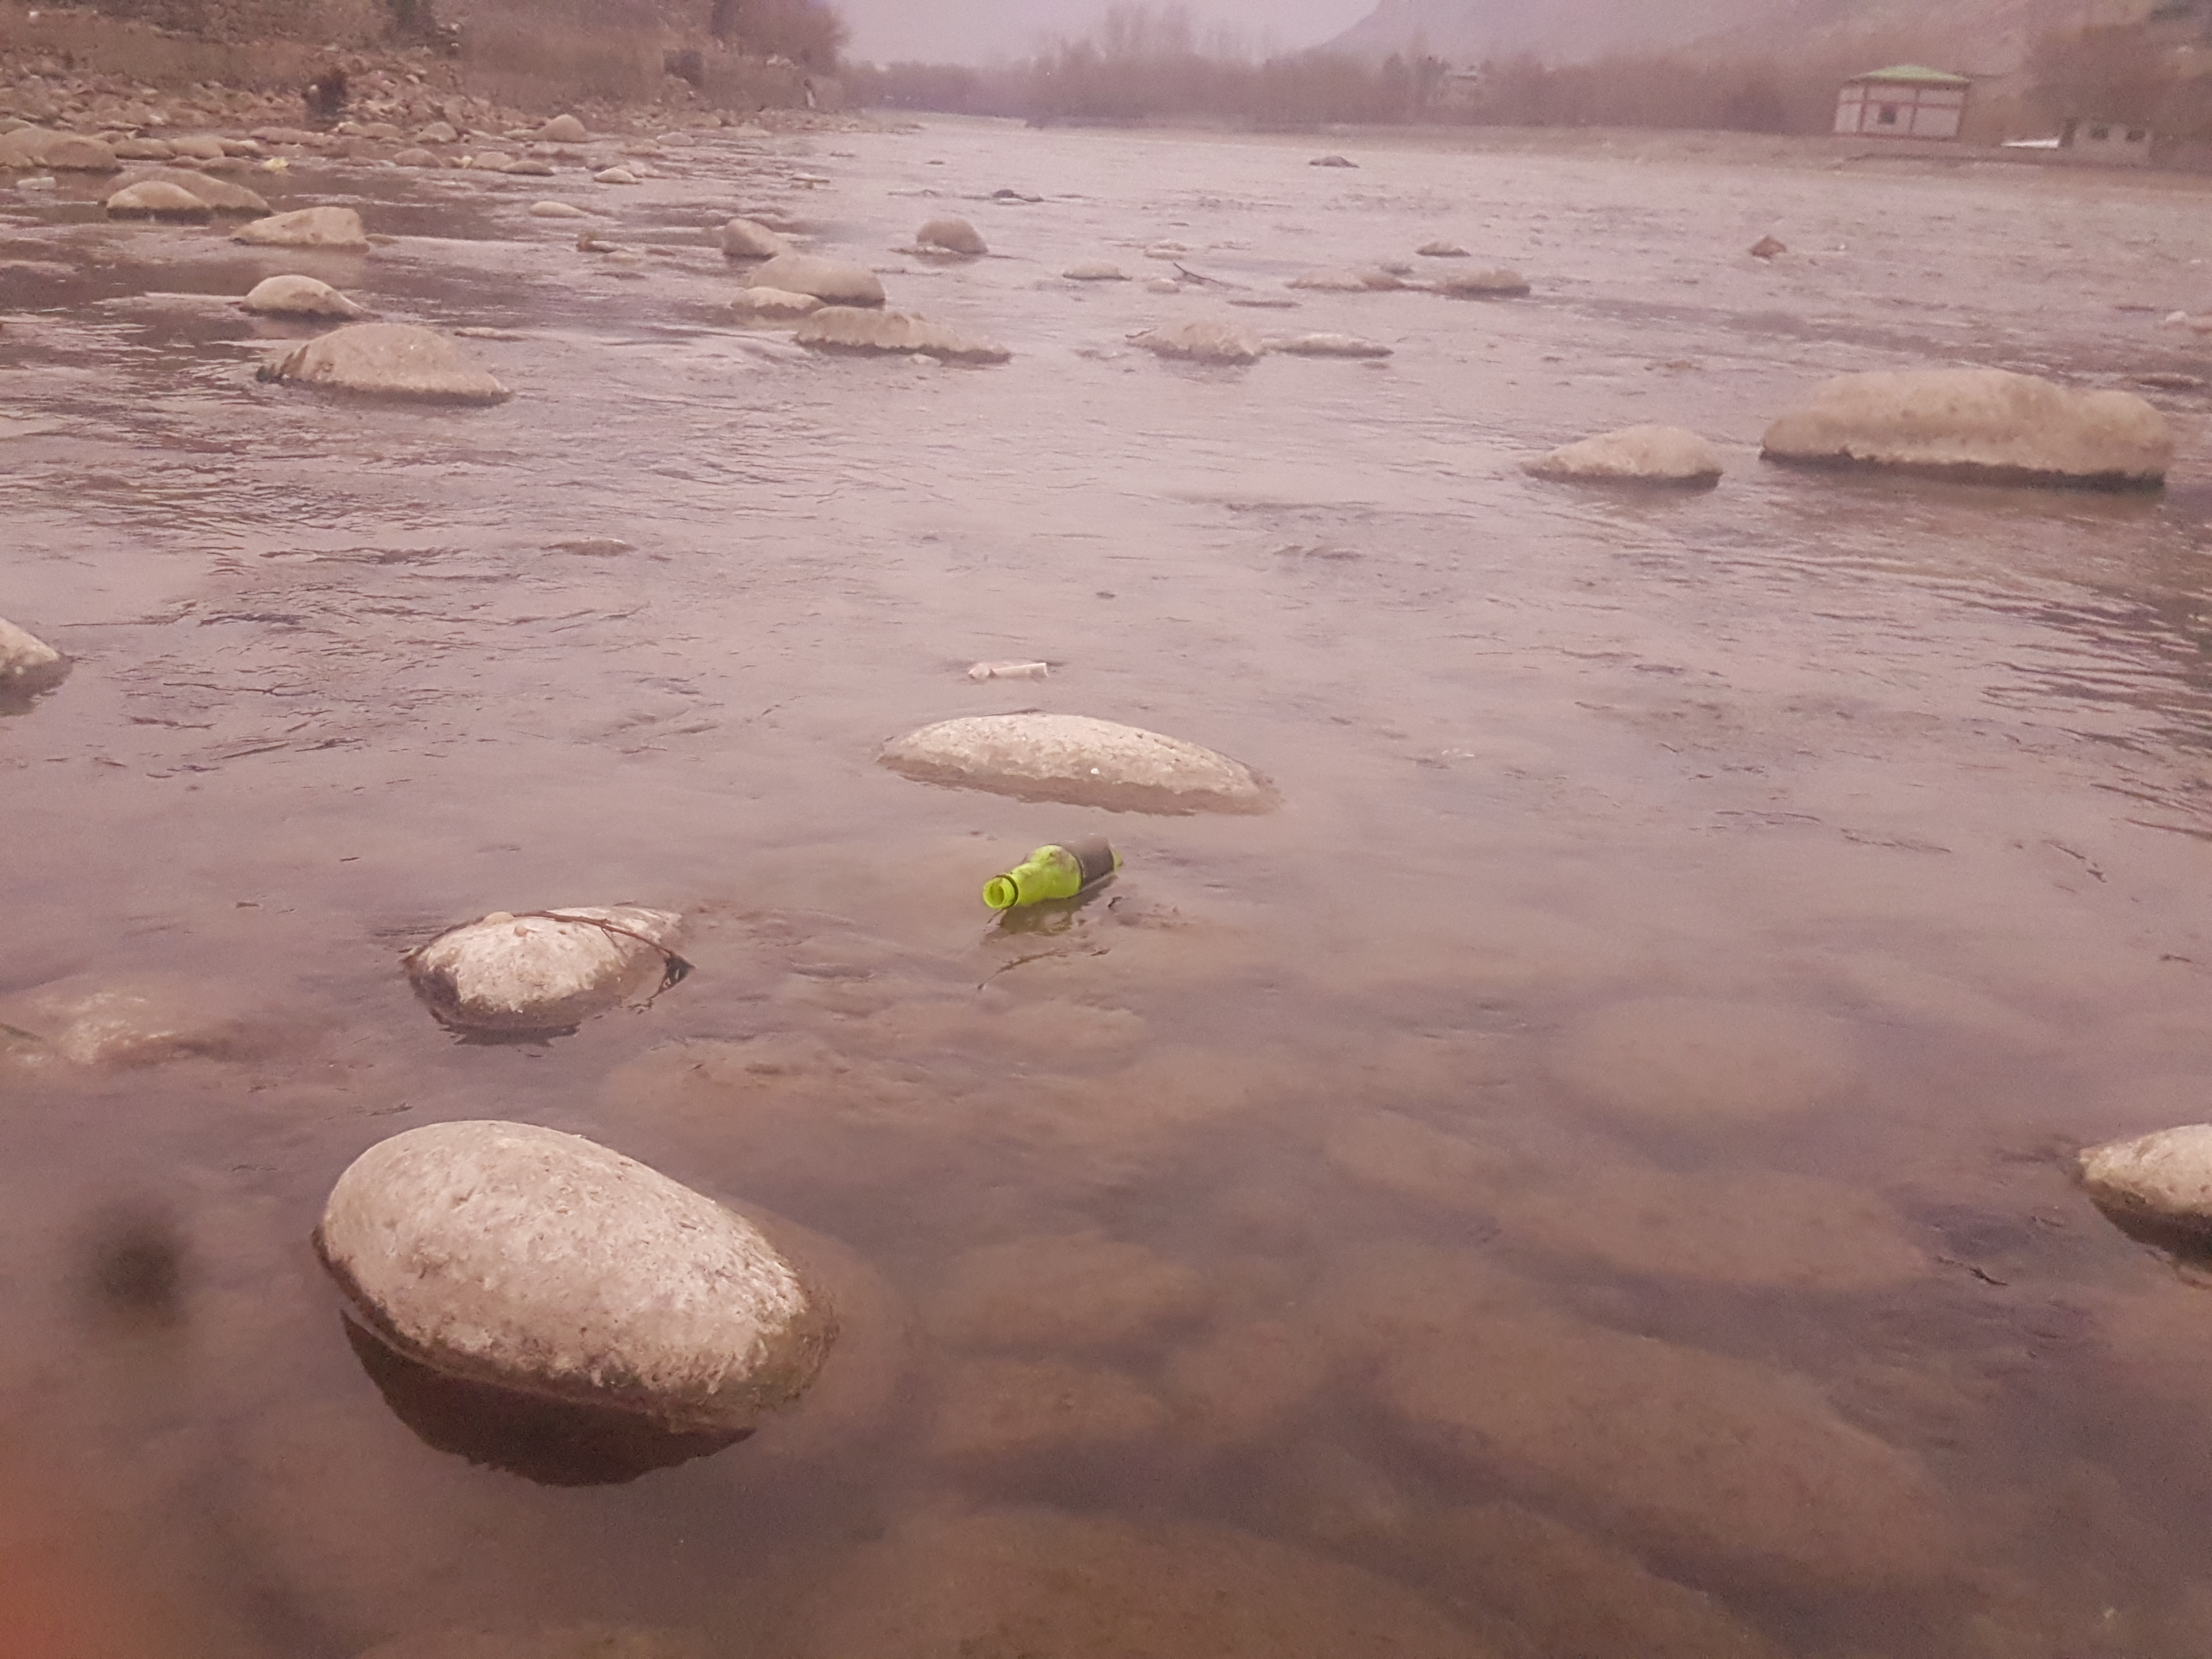Plastic Bottle: (982, 831, 1125, 911)
